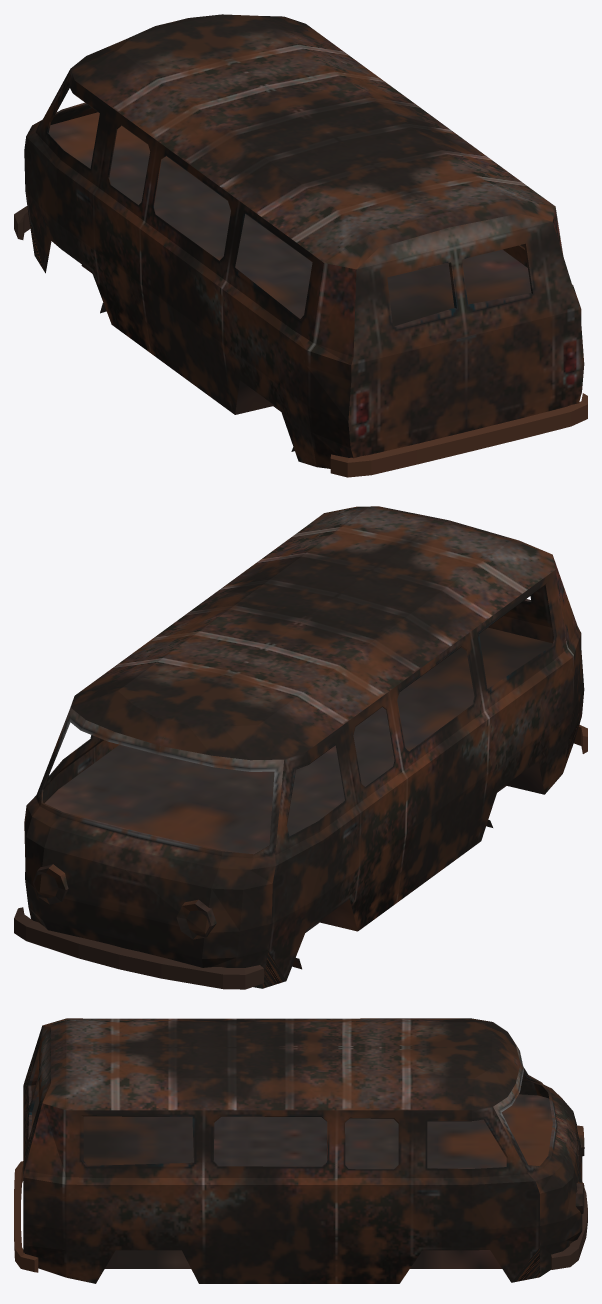
File: prop_car_burnt2.glb
3 renders of one model, top to bottom at view 1: azimuth 30°, elevation 25°; view 2: azimuth 150°, elevation 25°; view 3: azimuth 270°, elevation 25°, orthographic. The views are drawn at different scales.
Visible parts, largest first — view 1: hull; view 2: hull; view 3: hull.
Boxes of the visible parts, x1=… form: hull: x1=14, y1=14, x2=587, y2=477; hull: x1=14, y1=506, x2=587, y2=989; hull: x1=14, y1=1018, x2=587, y2=1283.
Bounding box in the file's own units: 1.09 × 1.02 × 2.5.
1 material, 1 textured.
